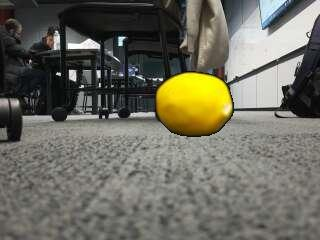lemon: (156, 72, 233, 136)
